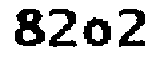2: (117, 8, 153, 50), (47, 5, 78, 49)
8: (13, 6, 46, 49)
o: (82, 17, 113, 49)
